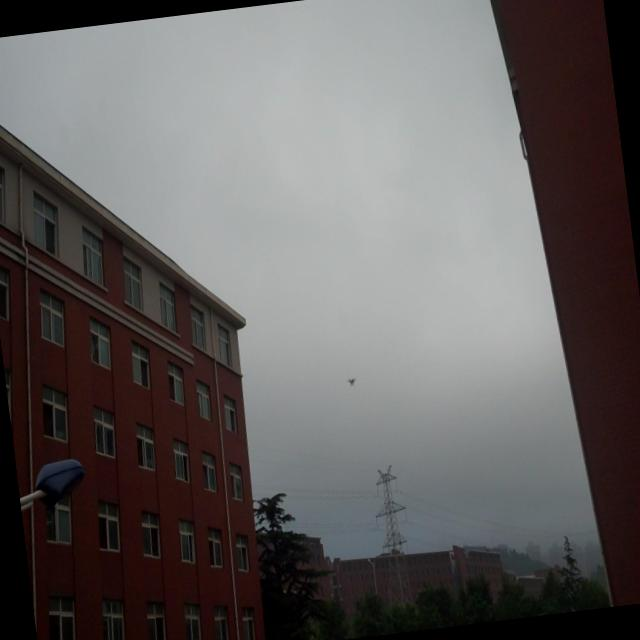drone: (345, 372, 358, 390)
